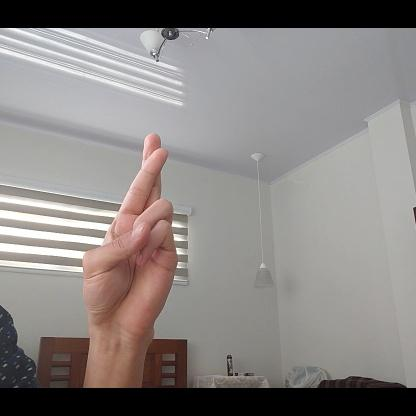R: (78, 132, 179, 347)
